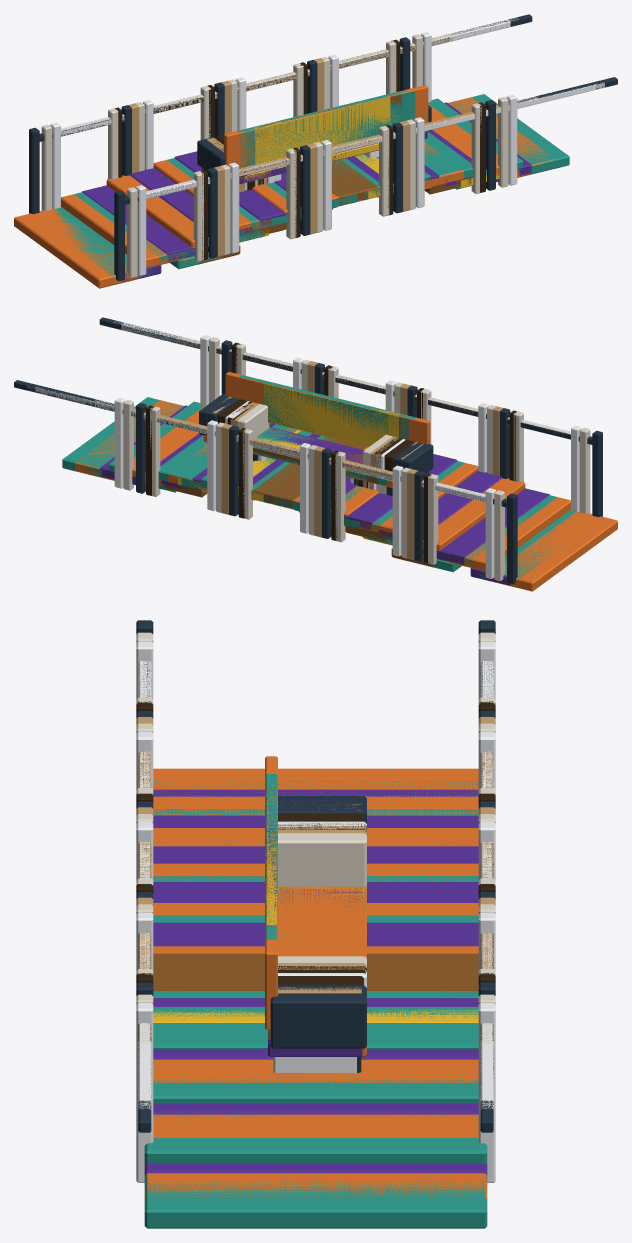
Rendered from flagship_props_008.glb.
3 views of the same model, one above another, from view 1: azimuth 30°, elevation 25°; view 2: azimuth 150°, elevation 25°; view 3: azimuth 270°, elevation 25° (orthographic). The views are drawn at different scales.
Parts seen in each view (by area): view 1: Prop_BBIsle_Bridge_03, Prop_BBIsle_Bridge_02, Prop_BBIsle_Bridge_05, Prop_BBIsle_Bridge_00, Prop_BBIsle_Bridge_01, Prop_BBIsle_Bridge_04, Prop_BBIsle_Bench_06, Prop_BBIsle_Bench_17, Prop_BBIsle_Bridge_06, Prop_BBIsle_Bench_10, Prop_BBIsle_Bench_11, Prop_BBIsle_Bench_05 (+3 smaller); view 2: Prop_BBIsle_Bridge_03, Prop_BBIsle_Bridge_02, Prop_BBIsle_Bridge_05, Prop_BBIsle_Bridge_00, Prop_BBIsle_Bridge_01, Prop_BBIsle_Bench_11, Prop_BBIsle_Bridge_04, Prop_BBIsle_Bench_07, Prop_BBIsle_Bridge_06, Prop_BBIsle_Bench_10, Prop_BBIsle_Bench_05, Prop_BBIsle_Bench_12 (+7 smaller); view 3: Prop_BBIsle_Bridge_05, Prop_BBIsle_Bridge_03, Prop_BBIsle_Bridge_02, Prop_BBIsle_Bridge_01, Prop_BBIsle_Bench_10, Prop_BBIsle_Bench_15, Prop_BBIsle_Bench_07, Prop_BBIsle_Bridge_04, Prop_BBIsle_Bridge_06, Prop_BBIsle_Bridge_00, Prop_BBIsle_Bench_14, Prop_BBIsle_Bench_05 (+5 smaller).
Part boxes in pixels (x1,y1,x2,y2): Prop_BBIsle_Bridge_03: (14,14,617,288); Prop_BBIsle_Bridge_02: (50,19,596,282); Prop_BBIsle_Bridge_05: (41,17,604,280); Prop_BBIsle_Bridge_00: (108,34,538,269); Prop_BBIsle_Bridge_01: (131,43,509,263); Prop_BBIsle_Bridge_04: (114,37,499,265); Prop_BBIsle_Bench_06: (254,101,399,185); Prop_BBIsle_Bench_17: (244,90,410,166); Prop_BBIsle_Bridge_06: (128,53,431,264); Prop_BBIsle_Bench_10: (197,85,431,170); Prop_BBIsle_Bench_11: (264,97,390,182); Prop_BBIsle_Bench_05: (206,87,420,168); Prop_BBIsle_Bridge_03: (14,317,617,591); Prop_BBIsle_Bridge_02: (35,322,581,585); Prop_BBIsle_Bridge_05: (27,321,590,581); Prop_BBIsle_Bridge_00: (94,336,523,572); Prop_BBIsle_Bridge_01: (122,348,500,566); Prop_BBIsle_Bench_11: (253,383,388,486); Prop_BBIsle_Bridge_04: (106,342,516,565); Prop_BBIsle_Bench_07: (237,384,392,484); Prop_BBIsle_Bridge_06: (162,362,503,567); Prop_BBIsle_Bench_10: (199,372,433,487); Prop_BBIsle_Bench_05: (207,374,422,495); Prop_BBIsle_Bench_12: (239,375,416,494); Prop_BBIsle_Bridge_05: (136,632,495,1228); Prop_BBIsle_Bridge_03: (136,620,495,1198); Prop_BBIsle_Bridge_02: (136,641,495,1182); Prop_BBIsle_Bridge_01: (136,718,495,1023); Prop_BBIsle_Bench_10: (265,756,366,1072); Prop_BBIsle_Bench_15: (267,796,366,957); Prop_BBIsle_Bench_07: (265,833,366,964); Prop_BBIsle_Bridge_04: (136,701,495,1041); Prop_BBIsle_Bridge_06: (136,717,495,990); Prop_BBIsle_Bridge_00: (136,697,495,1044); Prop_BBIsle_Bench_14: (268,1039,362,1072); Prop_BBIsle_Bench_05: (265,764,366,995).
Size of the model in its own units: 5.59 by 0.955 by 1.68.
